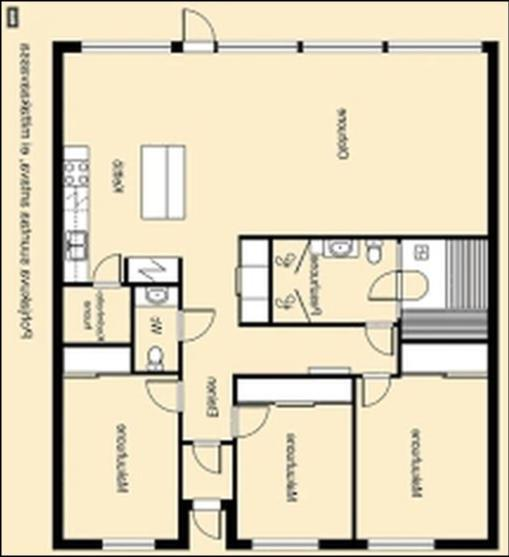door: (178, 5, 219, 56), (227, 402, 273, 439), (174, 304, 217, 342), (143, 376, 185, 414), (90, 249, 126, 289), (191, 495, 222, 541), (360, 319, 396, 358), (360, 370, 391, 410), (193, 437, 222, 475)
window: (382, 36, 493, 56), (216, 36, 304, 59), (297, 37, 388, 58), (74, 39, 182, 54), (92, 534, 166, 554), (360, 536, 441, 552), (244, 535, 326, 550)
